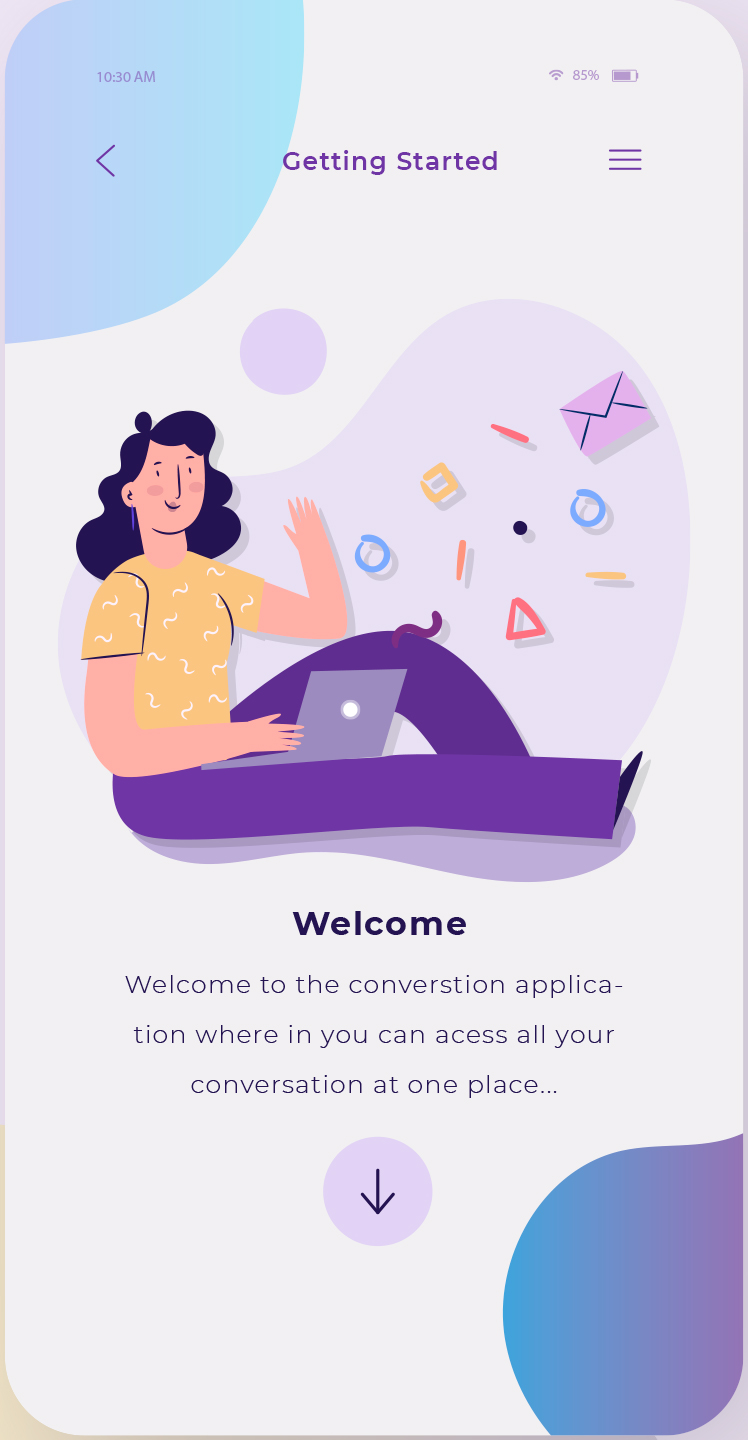Icon: (323, 1137, 433, 1247), (609, 149, 643, 172), (96, 146, 116, 179)
Image: (57, 298, 692, 884)
Text: (125, 975, 623, 1099), (283, 151, 498, 177), (293, 911, 467, 936)
UpperTaskBar: (97, 70, 639, 84)
